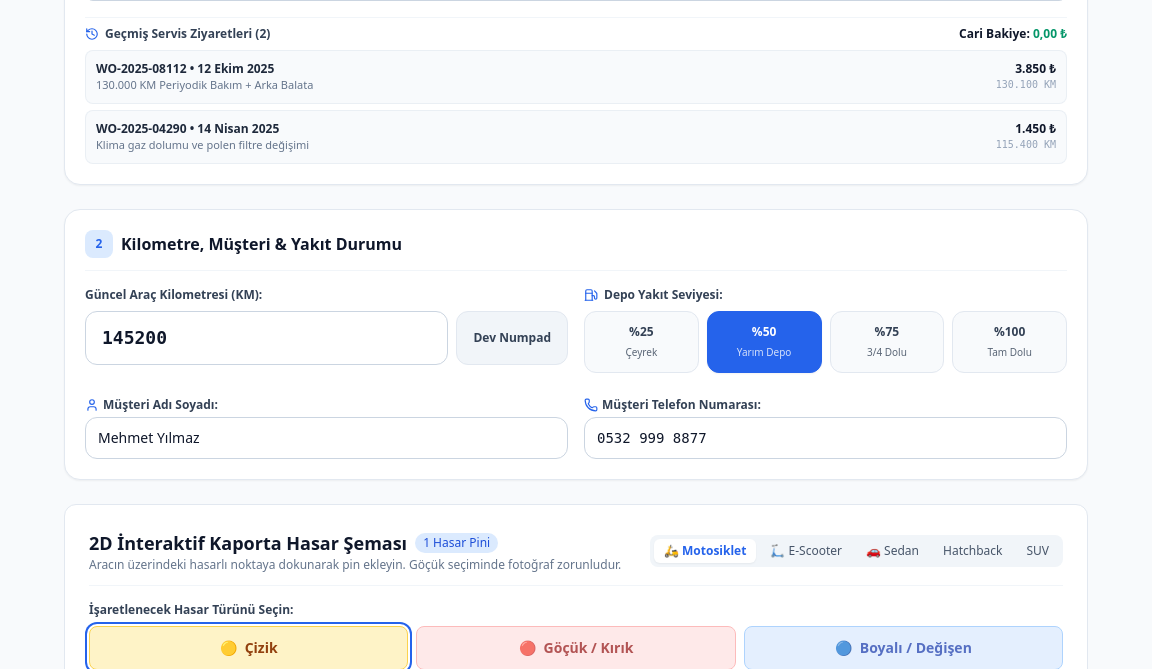
HiVehicleIntakeForm — Hızlı Araç Kabul & İş Emri › toggles dev numpad when numpad button is clicked
(page scrolled)
Click the button "Dev Numpad" at (512, 338), box [456,311,568,365]
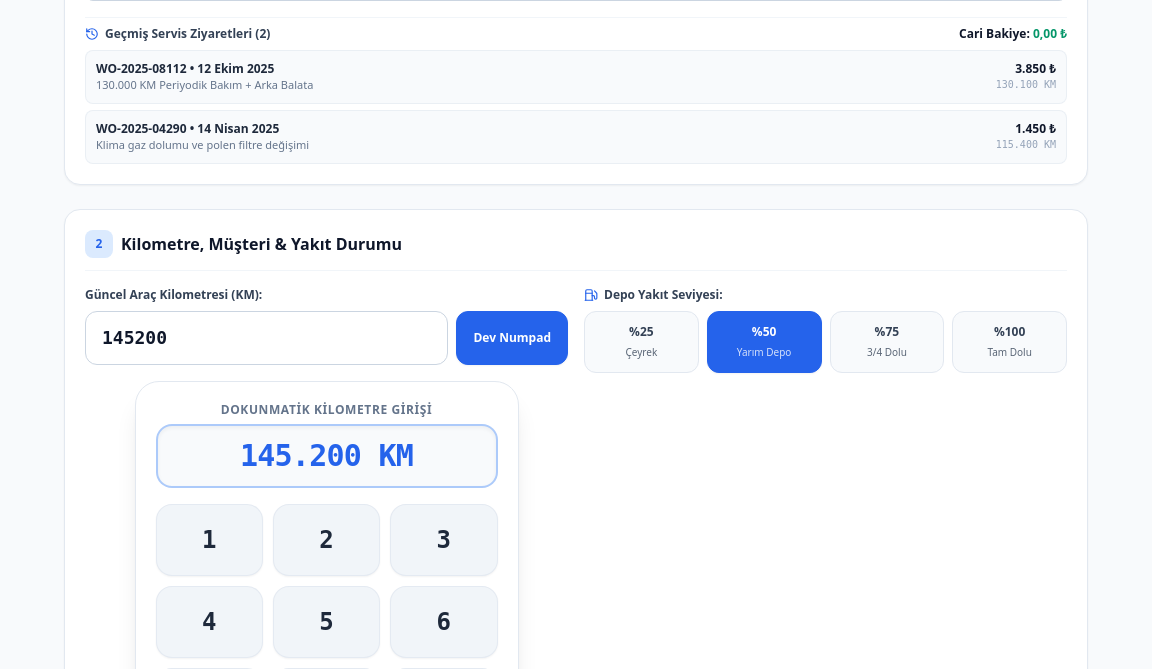
Result: the text "Dokunmatik Kilometre Girişi" is shown at [221,401,432,418]
